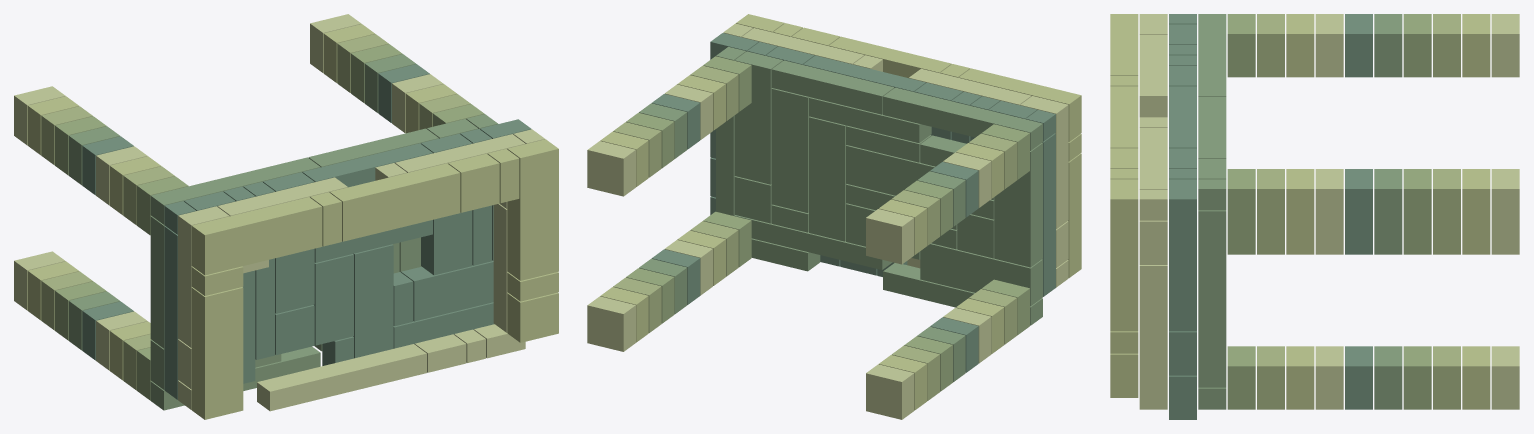
The model's file is structure.glb.
3 renders of one model, left to right at view 1: azimuth 30°, elevation 25°; view 2: azimuth 150°, elevation 25°; view 3: azimuth 270°, elevation 25°, orthographic. The views are drawn at different scales.
Parts seen in each view (by area): view 1: geometry_0; view 2: geometry_0; view 3: geometry_0.
Part boxes in pixels (x1=…): geometry_0: x1=14, y1=14, x2=558, y2=419; geometry_0: x1=587, y1=14, x2=1081, y2=419; geometry_0: x1=1110, y1=14, x2=1519, y2=419.
Size of the model in its own units: 17.95 by 9.95 by 16.75.
